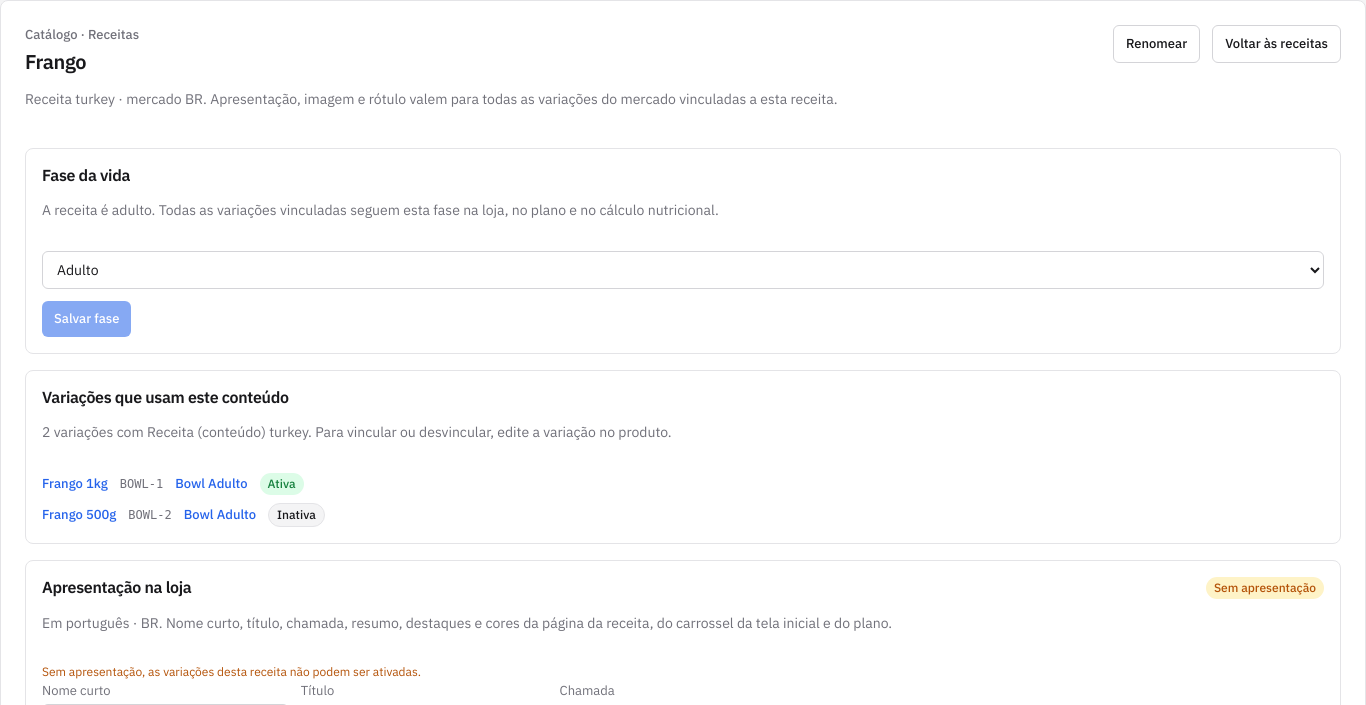
Test case: RecipeContentPage › renames the recipe and keeps its key
This screenshot has width=1366, height=705.
Click the button "Renomear" at x=1156, y=44, box [1113,25,1200,62]
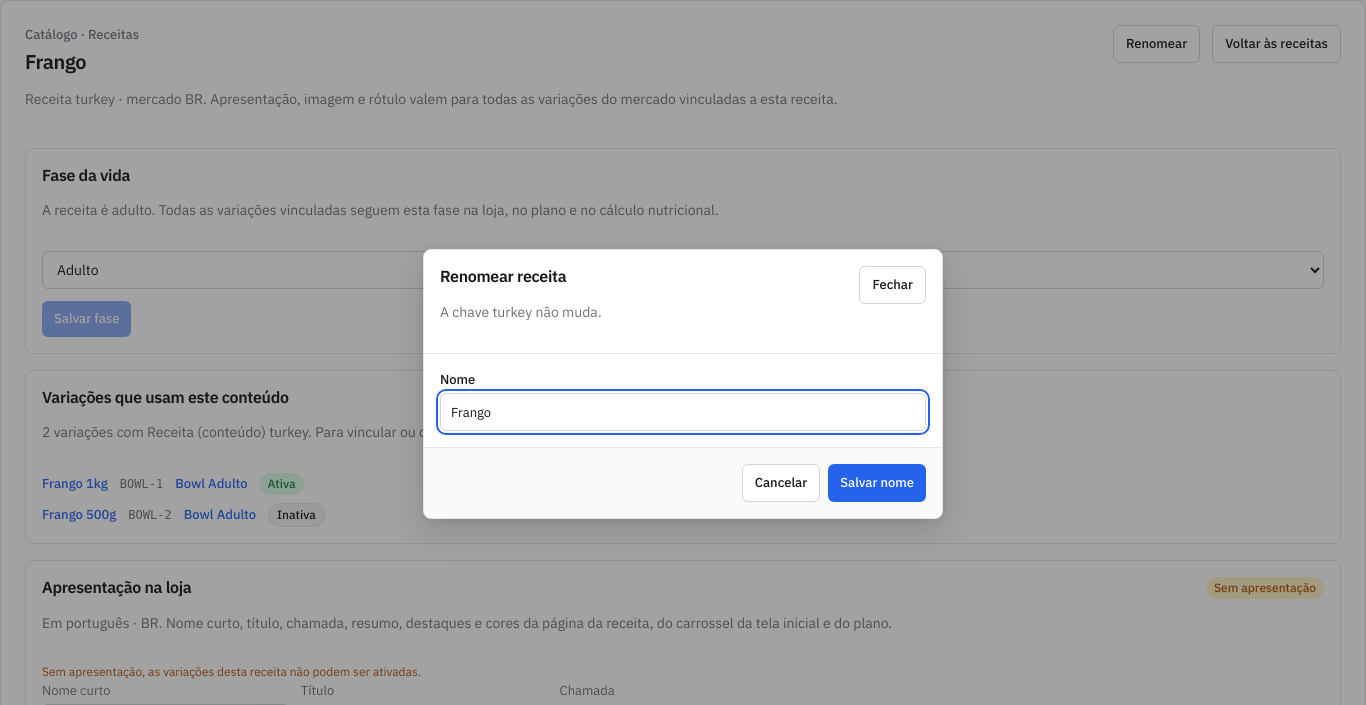
Replace the text in the field named "Nome da receita" with "Frango adulto" at x=683, y=412, box [440,393,926,431]
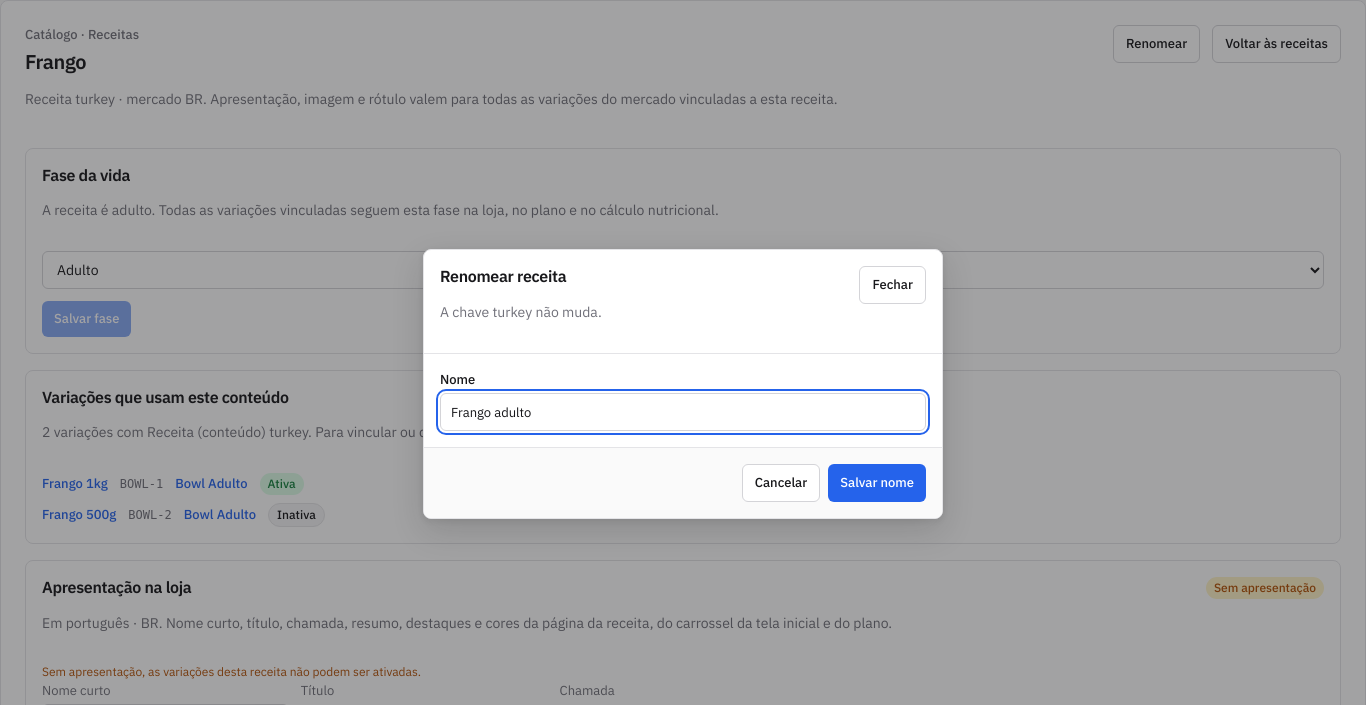
Click the button "Salvar nome" at x=877, y=483, box [828,464,926,502]
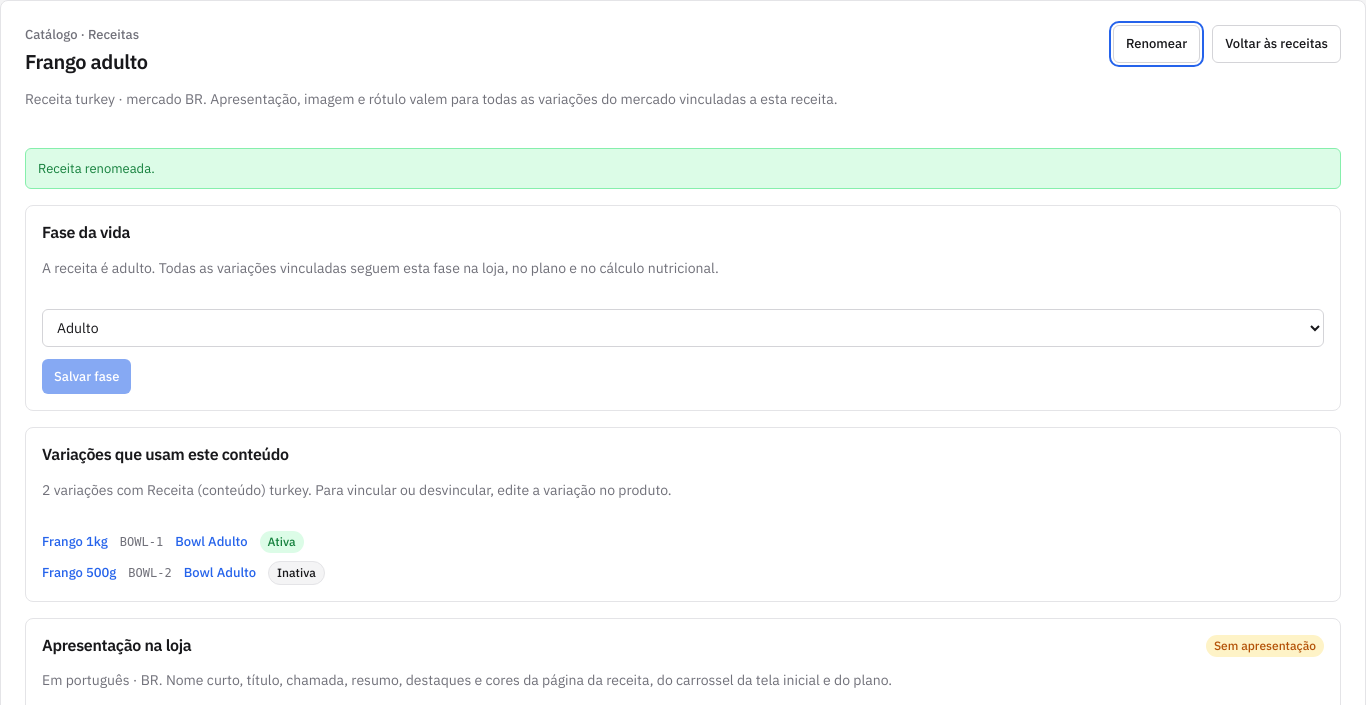
Expected: the heading "Frango adulto" is shown, [25,48,148,74]
Expected: the text "Receita renomeada." is shown, [25,148,1341,189]
